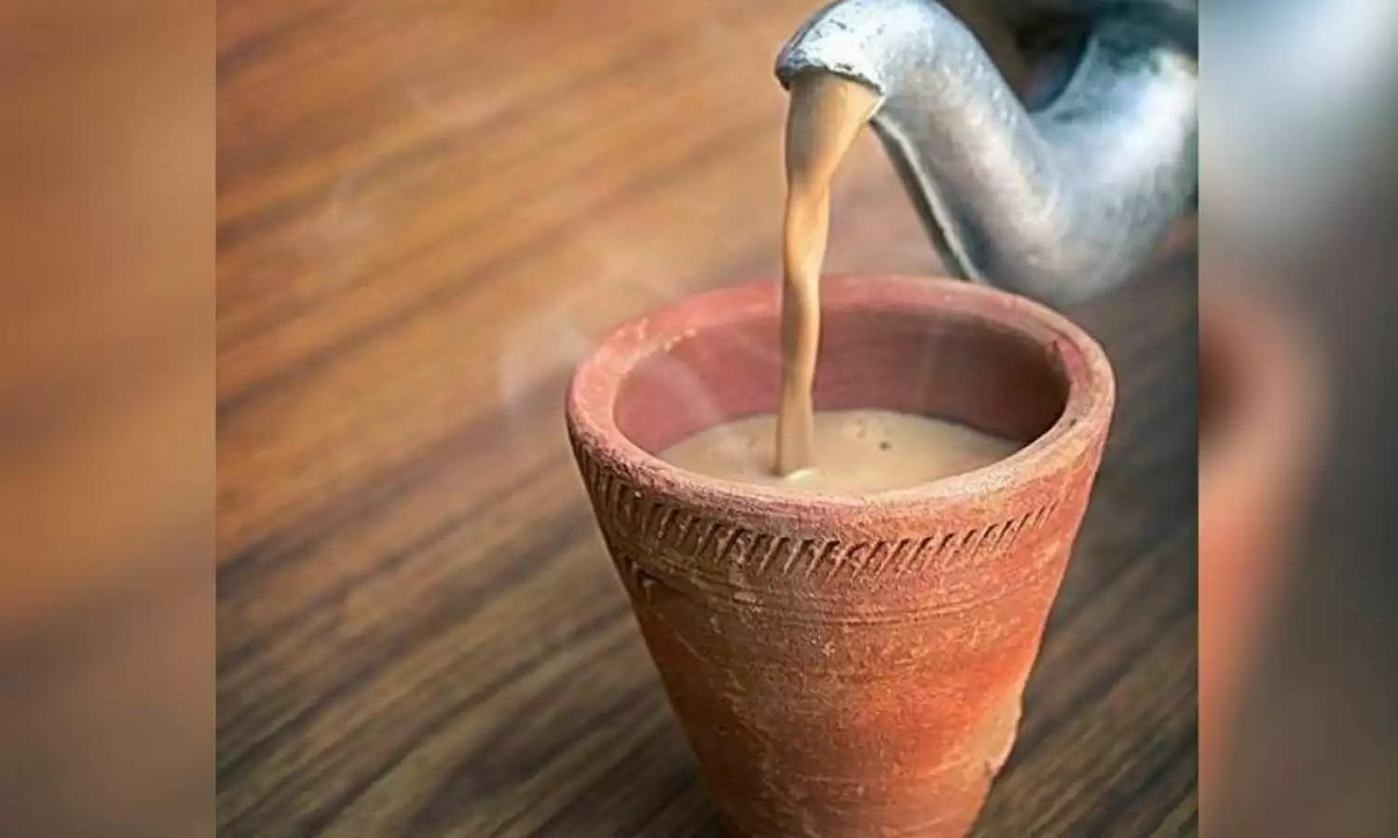Chai: (778, 74, 887, 468), (656, 413, 1039, 493)
